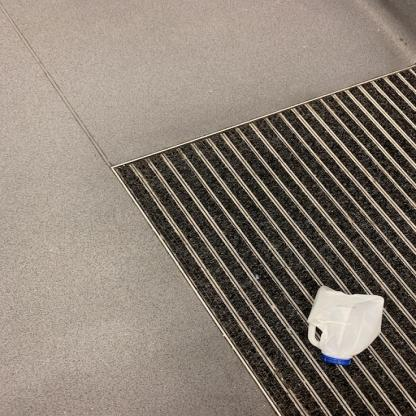trash: (304, 284, 387, 368)
